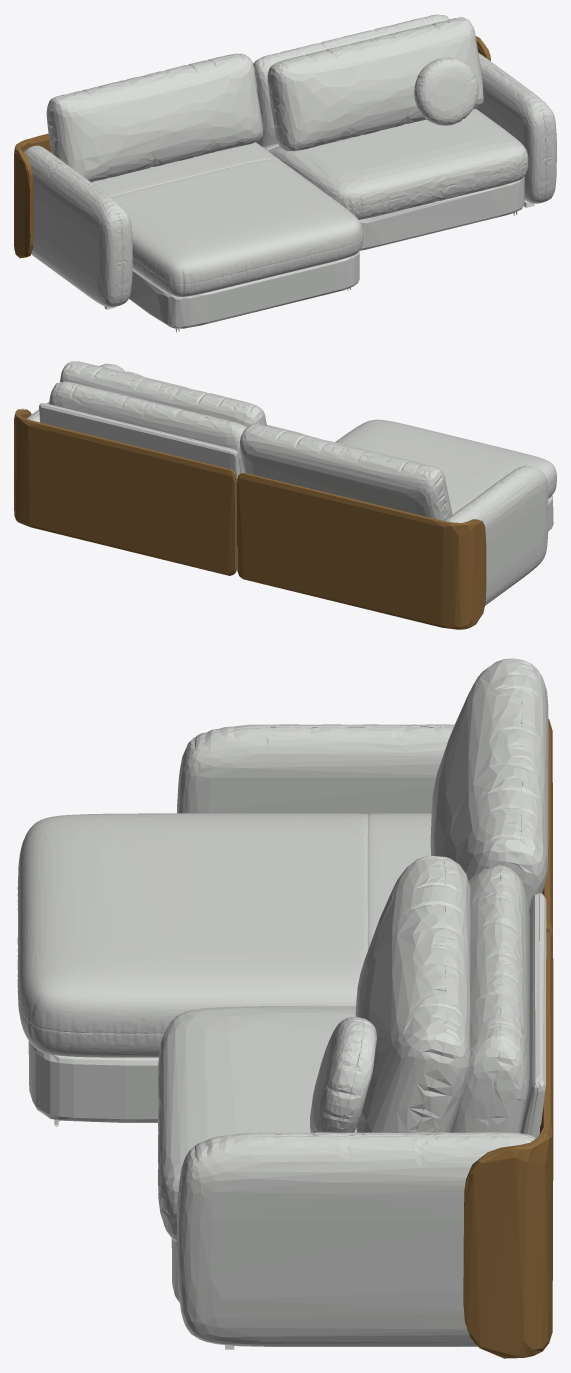
Rendered from sofa-naturale.glb.
The picture shows the model from 3 angles, top to bottom: view 1: azimuth 30°, elevation 25°; view 2: azimuth 150°, elevation 25°; view 3: azimuth 270°, elevation 25°; orthographic projection. The views are drawn at different scales.
Visible parts, largest first — view 1: 3DGeom-3 (×2), 3DGeom-18, 3DGeom-20, 3DGeom-1 (×2), 3DGeom-17, 3DGeom-19, 3DGeom-25, 3DGeom-2; view 2: 3DGeom-2 (×2), 3DGeom-3 (×2), 3DGeom-18, 3DGeom-1, 3DGeom-20, 3DGeom-21; view 3: 3DGeom-1 (×2), 3DGeom-18, 3DGeom-3 (×2), 3DGeom-20, 3DGeom-2 (×2), 3DGeom-17, 3DGeom-25, 3DGeom-21.
Boxes of the visible parts, left/top/right/bottom form: 3DGeom-3 (×2): left=46, top=17, right=483, bottom=182; 3DGeom-18: left=92, top=142, right=363, bottom=296; 3DGeom-20: left=253, top=14, right=528, bottom=219; 3DGeom-1 (×2): left=24, top=52, right=556, bottom=307; 3DGeom-17: left=129, top=251, right=359, bottom=328; 3DGeom-19: left=359, top=177, right=524, bottom=250; 3DGeom-25: left=414, top=57, right=478, bottom=125; 3DGeom-2: left=14, top=133, right=51, bottom=258; 3DGeom-2 (×2): left=14, top=409, right=486, bottom=629; 3DGeom-3 (×2): left=60, top=361, right=452, bottom=520; 3DGeom-18: left=335, top=419, right=556, bottom=514; 3DGeom-1: left=445, top=465, right=548, bottom=605; 3DGeom-20: left=49, top=381, right=308, bottom=473; 3DGeom-21: left=39, top=403, right=240, bottom=482; 3DGeom-1 (×2): left=176, top=724, right=535, bottom=1346; 3DGeom-18: left=17, top=813, right=431, bottom=1057; 3DGeom-3 (×2): left=355, top=658, right=548, bottom=1132; 3DGeom-20: left=158, top=865, right=529, bottom=1242; 3DGeom-2 (×2): left=463, top=719, right=553, bottom=1358; 3DGeom-17: left=28, top=1041, right=158, bottom=1122; 3DGeom-25: left=310, top=1017, right=376, bottom=1132; 3DGeom-21: left=520, top=892, right=546, bottom=1138.
Size of what is drawn, in the model's own units: 2.82 by 0.8856 by 1.42.
